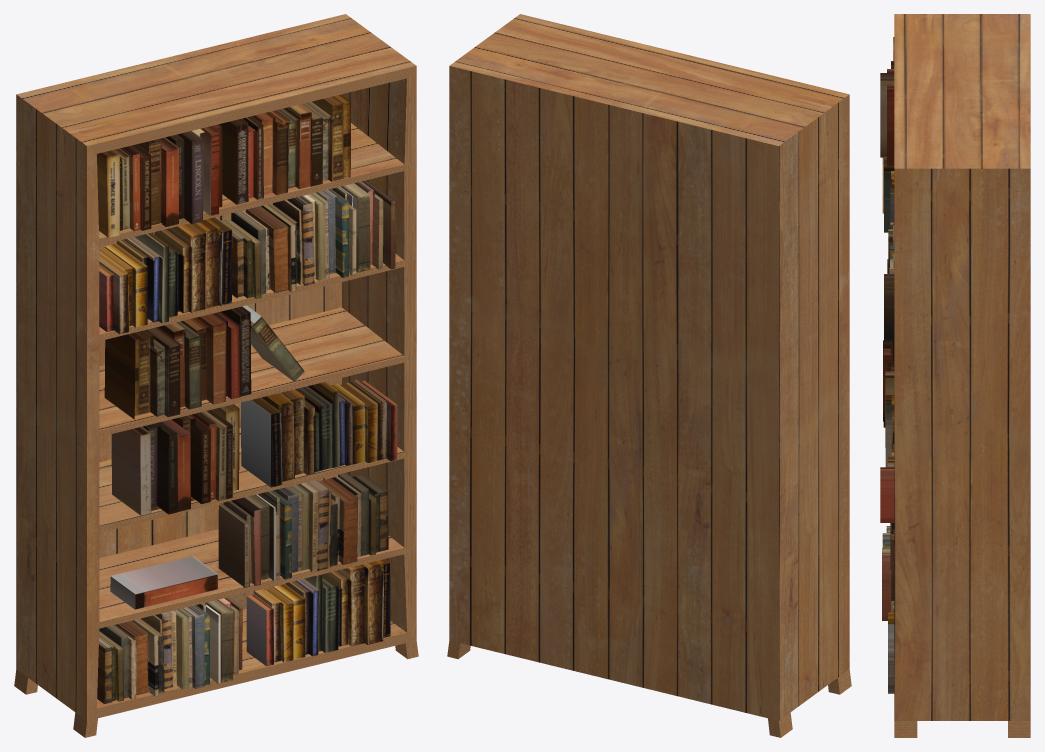
File: better_bookshelf.glb
3 renders of one model, left to right at view 1: azimuth 30°, elevation 25°; view 2: azimuth 150°, elevation 25°; view 3: azimuth 270°, elevation 25°, orthographic. The views are drawn at different scales.
Parts seen in each view (by area): view 1: Cube, bookshelfTexture; view 2: Cube; view 3: Cube, bookshelfTexture.
Part boxes in pixels (x1=…): Cube: x1=14, y1=14, x2=418, y2=737; bookshelfTexture: x1=97, y1=94, x2=397, y2=703; Cube: x1=447, y1=14, x2=851, y2=737; Cube: x1=894, y1=14, x2=1030, y2=737; bookshelfTexture: x1=880, y1=37, x2=894, y2=693.
Bounding box in the file's own units: 1.22 × 2.06 × 0.4931.
2 materials, 2 textured.
